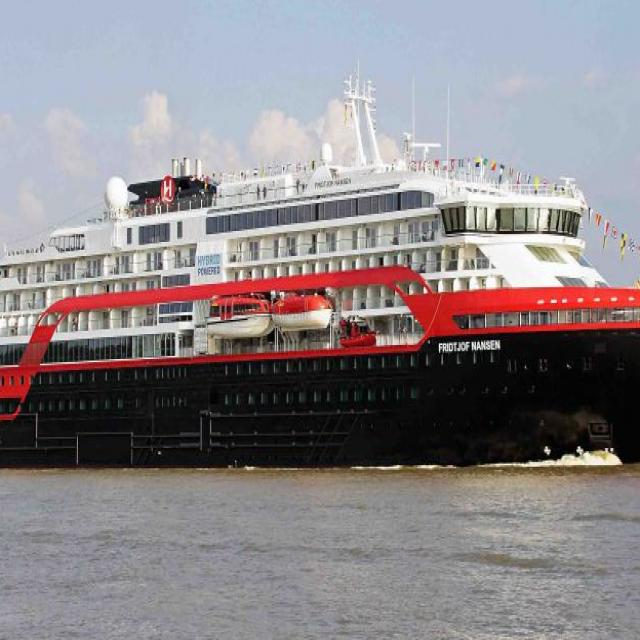cruises: (1, 73, 640, 482)
